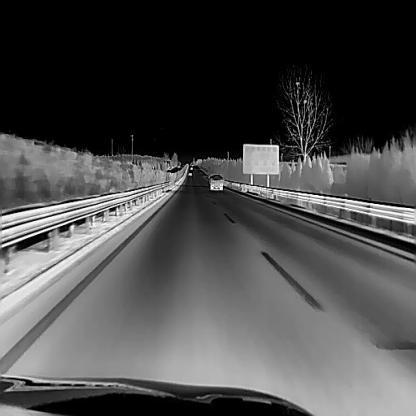car: (207, 173, 224, 190)
